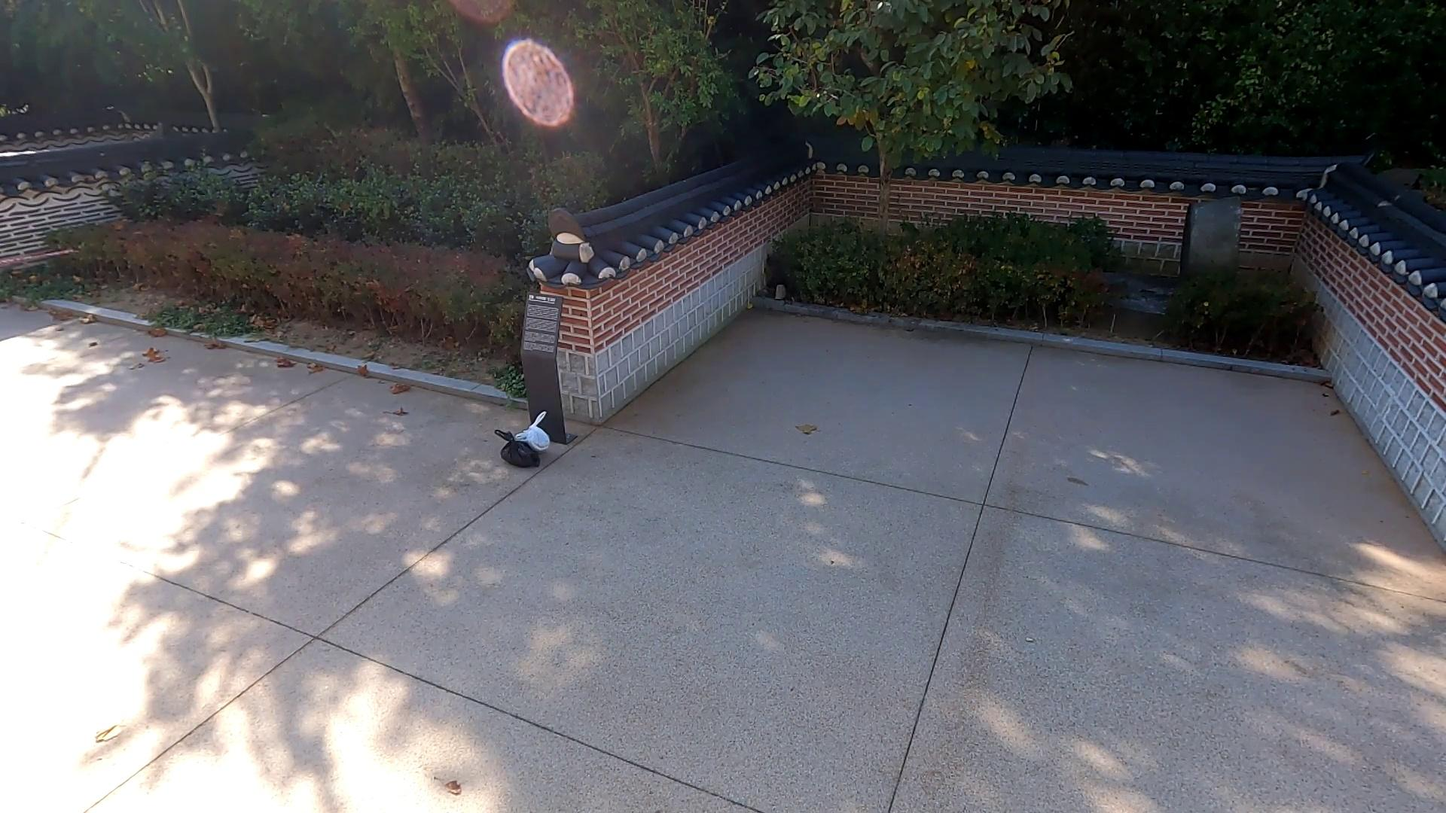trash: (491, 428, 542, 468)
